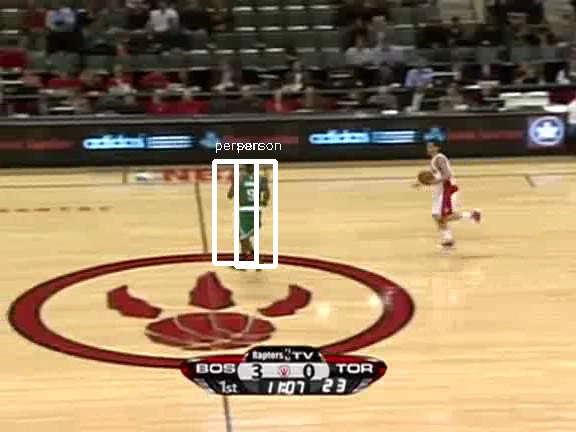person: (234, 165, 268, 246), (233, 165, 267, 246), (235, 165, 269, 246), (234, 164, 268, 245), (234, 166, 268, 247)
target_negative: (154, 265, 551, 356), (6, 70, 276, 102), (379, 271, 554, 319), (158, 386, 491, 399), (320, 36, 346, 68), (439, 366, 448, 399)
